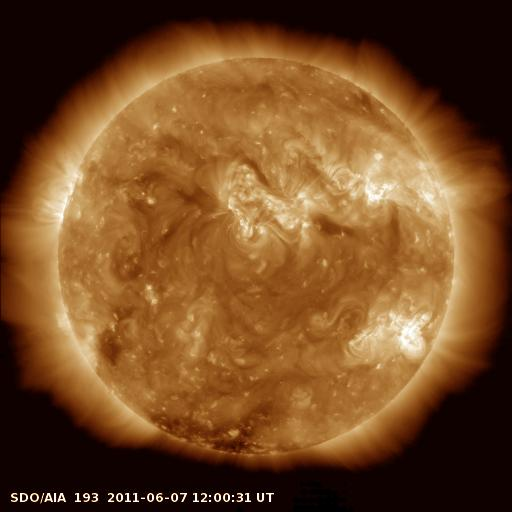coronal_hole: (153, 401, 270, 456)
